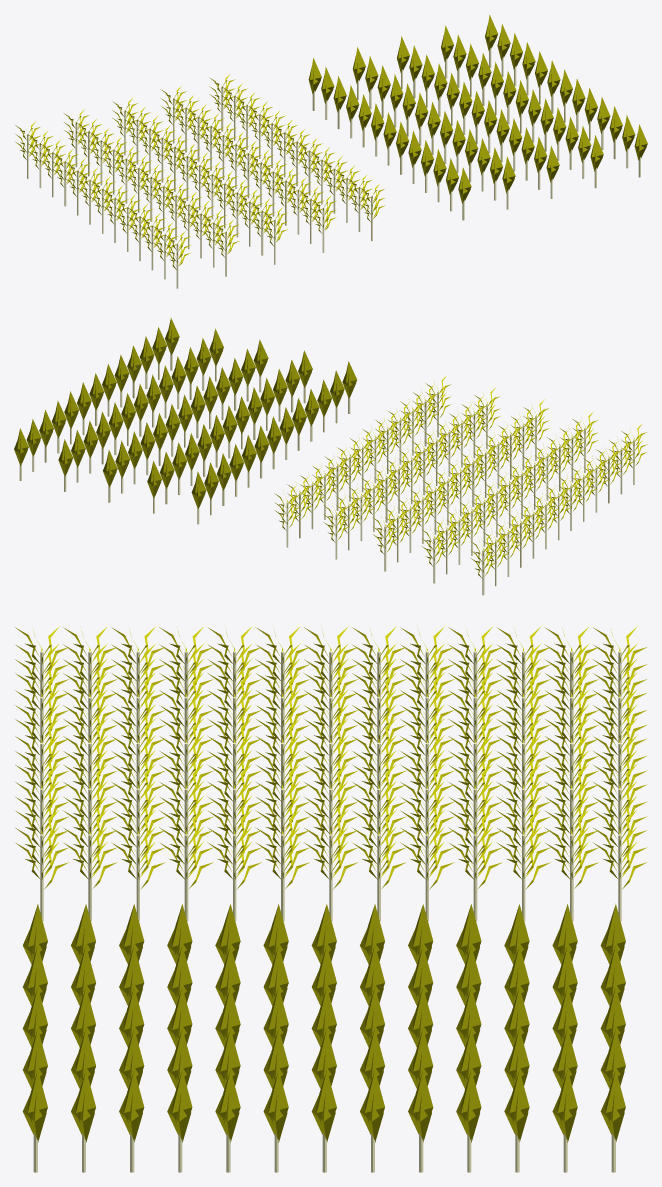
The model's file is Rice Plants.obj.
The picture shows the model from 3 angles, top to bottom: view 1: azimuth 30°, elevation 25°; view 2: azimuth 150°, elevation 25°; view 3: azimuth 270°, elevation 25°; orthographic projection. The views are drawn at different scales.
Bounding box in the file's own units: 22.17 × 2.5 × 13.16.
